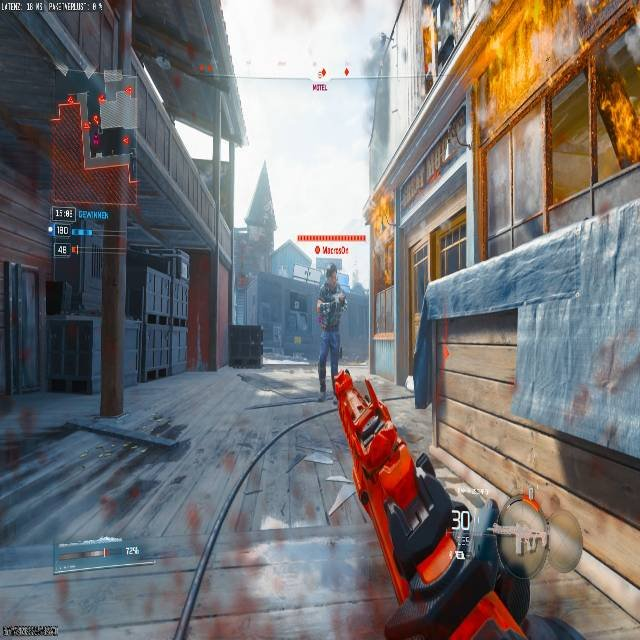head: (324, 259, 339, 278), (326, 264, 337, 283)
player: (315, 265, 348, 395)
